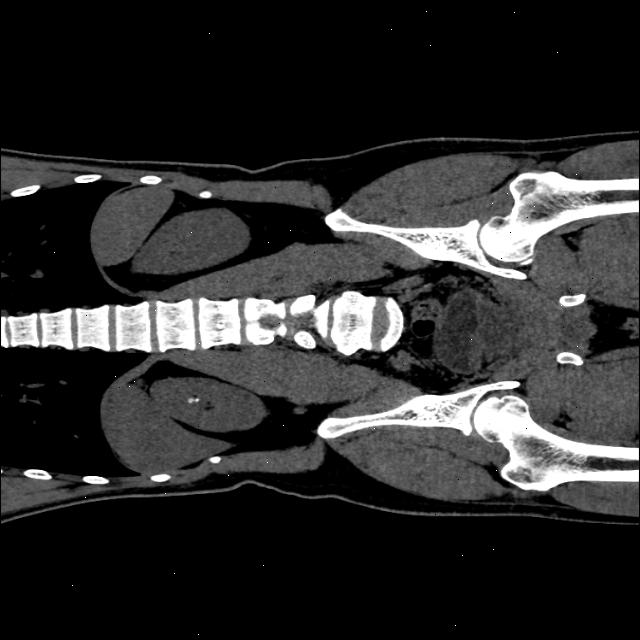kidneystone: (187, 395, 200, 402)
